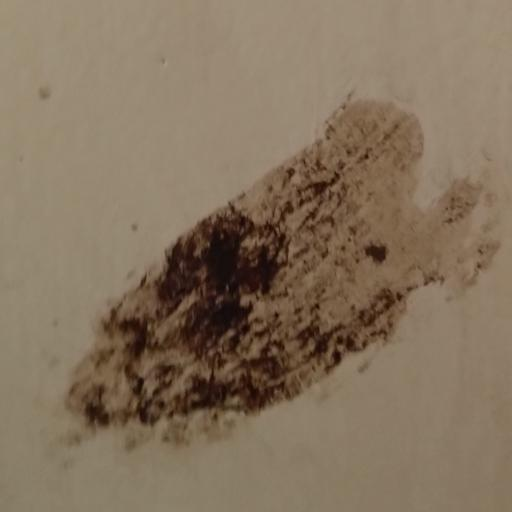stain: (51, 71, 495, 471)
